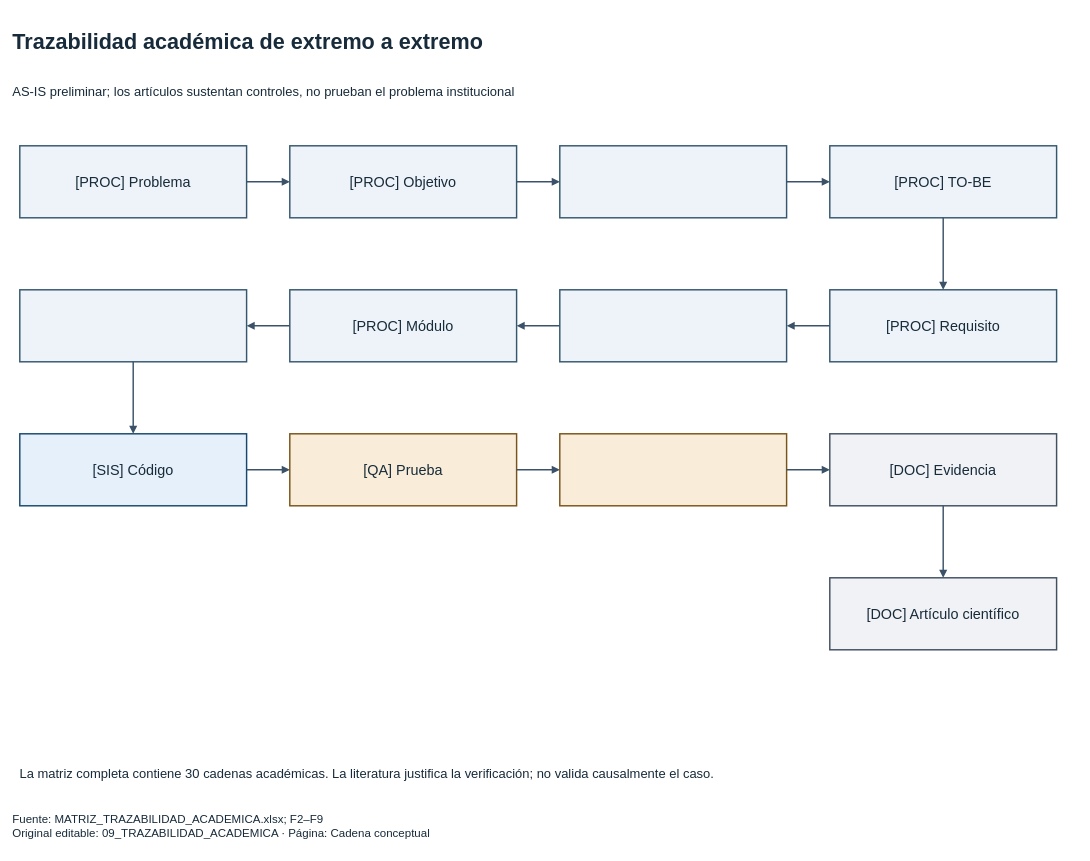
Image size: 1090x861. Some labels were removed from this diagram. The shapes that lost their labels are listed below. From the top down, each one's centre as x and y in pixels, then its label:
pixel 673 181: [PROC] AS-IS
pixel 133 325: [PROC] Función
pixel 673 325: [PROC] Caso de uso
pixel 673 469: [QA] Métrica
